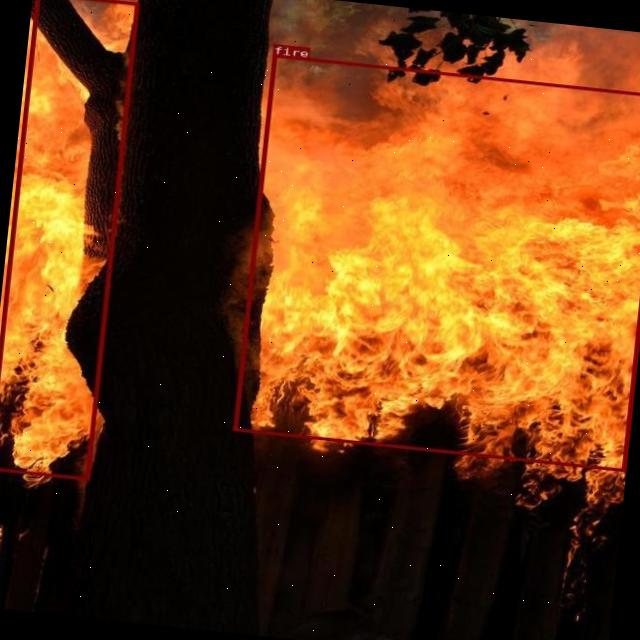fire: (232, 53, 640, 470), (0, 0, 138, 478)
